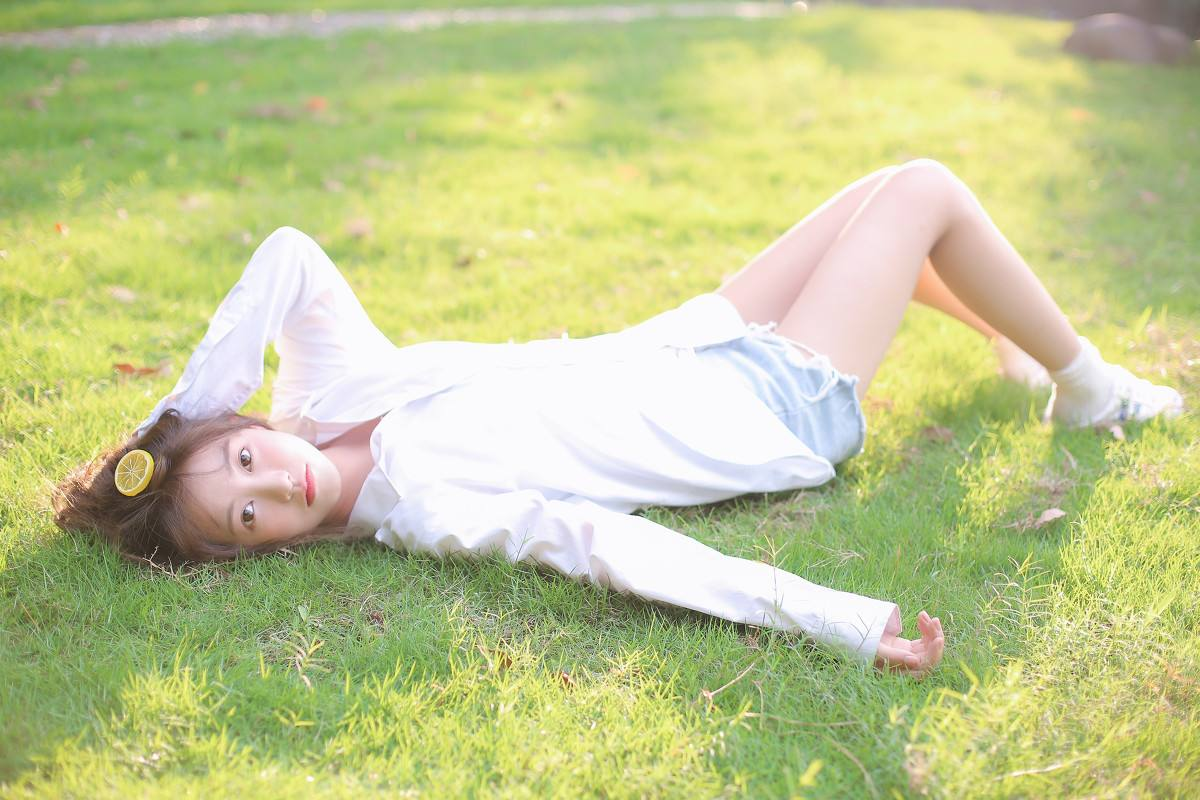person: (99, 180, 1102, 616)
